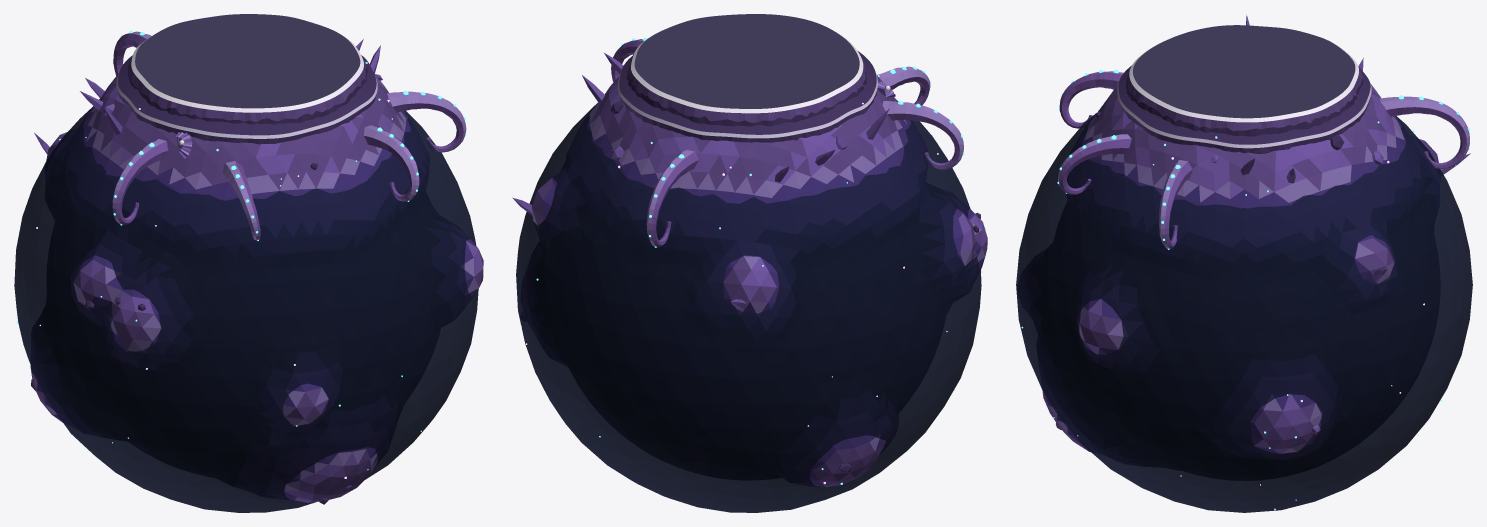
The model's file is 10_AbyssalCrown.glb.
3 renders of one model, left to right at view 1: azimuth 30°, elevation 25°; view 2: azimuth 150°, elevation 25°; view 3: azimuth 270°, elevation 25°, orthographic. The views are drawn at different scales.
Visible parts, largest first — view 1: AbyssalCrown_Body, AbyssalCrown_Ocean, AbyssalCrown_BuildArea, AbyssalCrown_Deco_TentacleArches, AbyssalCrown_Terraces, AbyssalCrown_Deco_Spires; view 2: AbyssalCrown_Body, AbyssalCrown_Ocean, AbyssalCrown_BuildArea, AbyssalCrown_Terraces, AbyssalCrown_Deco_TentacleArches, AbyssalCrown_Deco_Spires, AbyssalCrown_Deco_Rocks; view 3: AbyssalCrown_Body, AbyssalCrown_Ocean, AbyssalCrown_BuildArea, AbyssalCrown_Deco_TentacleArches, AbyssalCrown_Terraces, AbyssalCrown_Deco_Spires.
Boxes of the visible parts, x1=… form: AbyssalCrown_Body: x1=30, y1=73, x2=483, y2=502; AbyssalCrown_Ocean: x1=14, y1=107, x2=478, y2=512; AbyssalCrown_BuildArea: x1=127, y1=14, x2=367, y2=124; AbyssalCrown_Deco_TentacleArches: x1=112, y1=30, x2=466, y2=240; AbyssalCrown_Terraces: x1=116, y1=55, x2=377, y2=144; AbyssalCrown_Deco_Spires: x1=34, y1=39, x2=380, y2=154; AbyssalCrown_Body: x1=524, y1=75, x2=987, y2=486; AbyssalCrown_Ocean: x1=516, y1=103, x2=981, y2=512; AbyssalCrown_BuildArea: x1=626, y1=14, x2=866, y2=126; AbyssalCrown_Terraces: x1=618, y1=51, x2=877, y2=142; AbyssalCrown_Deco_TentacleArches: x1=611, y1=37, x2=964, y2=247; AbyssalCrown_Deco_Spires: x1=512, y1=53, x2=889, y2=308; AbyssalCrown_Deco_Rocks: x1=610, y1=100, x2=980, y2=472; AbyssalCrown_Body: x1=1022, y1=84, x2=1440, y2=480; AbyssalCrown_Ocean: x1=1016, y1=113, x2=1472, y2=512; AbyssalCrown_BuildArea: x1=1126, y1=25, x2=1362, y2=136; AbyssalCrown_Deco_TentacleArches: x1=1057, y1=35, x2=1469, y2=249; AbyssalCrown_Terraces: x1=1117, y1=65, x2=1371, y2=153; AbyssalCrown_Deco_Spires: x1=1240, y1=15, x2=1470, y2=280.
Size of the model in its own units: 2.02 by 2.03 by 2.
